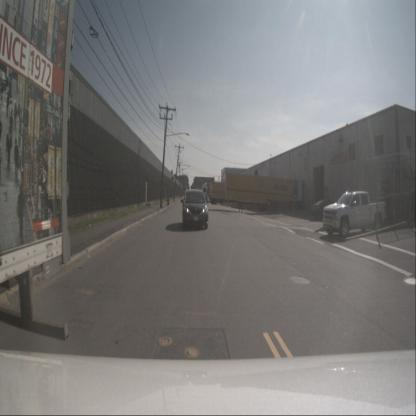vehicle-car: (182, 189, 209, 229), (310, 198, 341, 221)
vehicle-truck: (323, 192, 385, 238), (197, 181, 207, 205)
